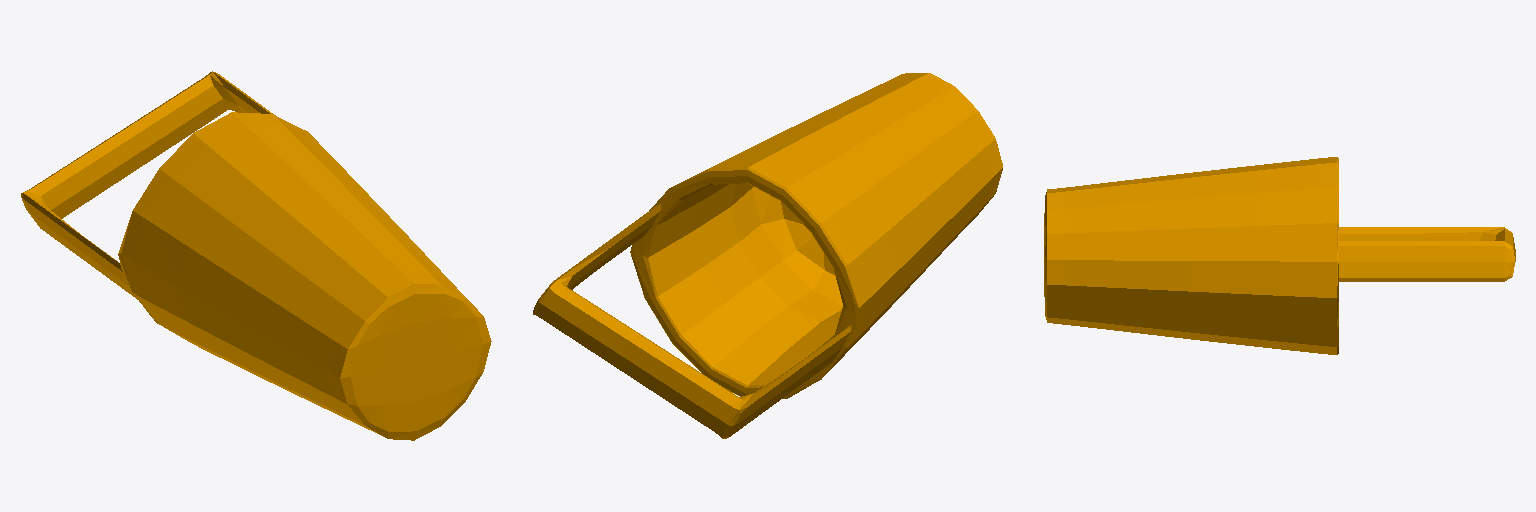
URDF robot description (290):
<?xml version="1.0" ?>
<robot name="290">
  <link name="body">
    <visual>
      <geometry>
        <mesh filename="../shapes/290.obj"/>
      </geometry>
    </visual>
    <collision>
      <geometry>
        <mesh filename="../shapes/290.obj"/>
      </geometry>
    </collision>
  </link>
</robot>

--- What the picture shows (computed from the rendered views, not written in the file) ---
The picture shows the robot from 3 angles, left to right: view 1: azimuth 30°, elevation 25°; view 2: azimuth 150°, elevation 25°; view 3: azimuth 270°, elevation 25°; orthographic projection.
Model 290 with 1 links and 0 joints (none), rooted at body, posed every joint at zero.
Visible links, largest first — view 1: body; view 2: body; view 3: body.
Boxes of the visible links, box(x1,y1,x2,y2) form: body: box(21, 71, 491, 440); body: box(533, 73, 1002, 438); body: box(1044, 157, 1515, 354).
Bounding box of the posed robot: 2.88 × 6.42 × 2.8 m (x, y, z).
1 mesh visuals loaded from 1 distinct referenced files (1 OBJ).